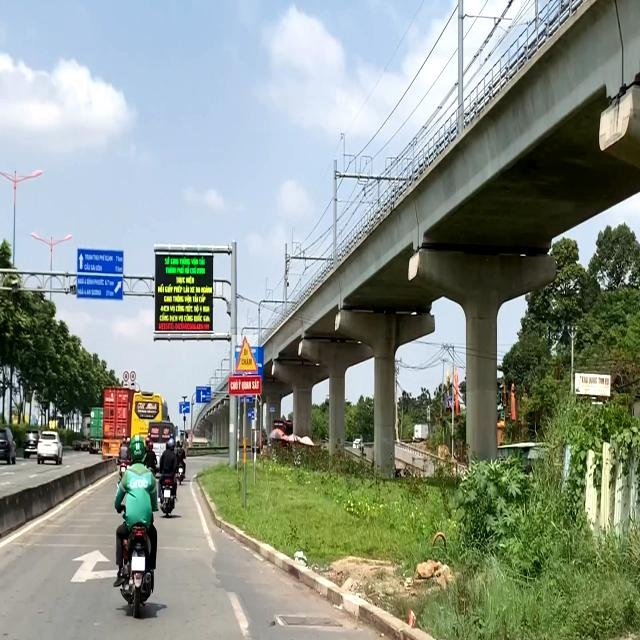bien_nguy_hiem: (232, 335, 258, 374)
